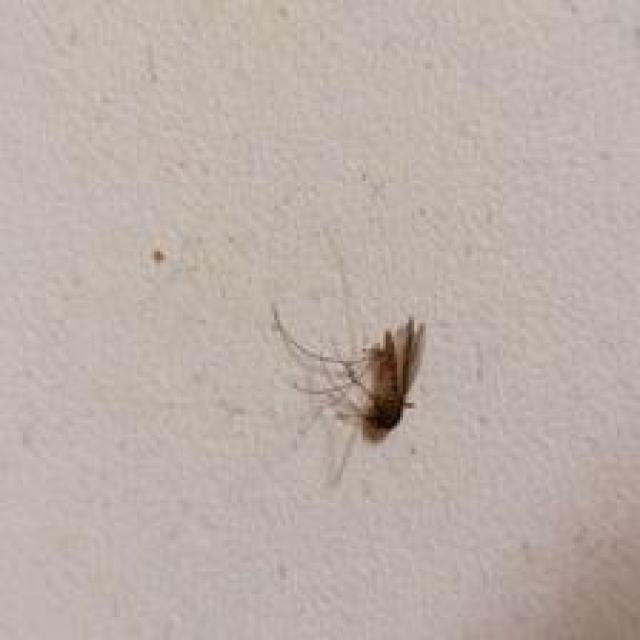Culex: (268, 299, 428, 487)
